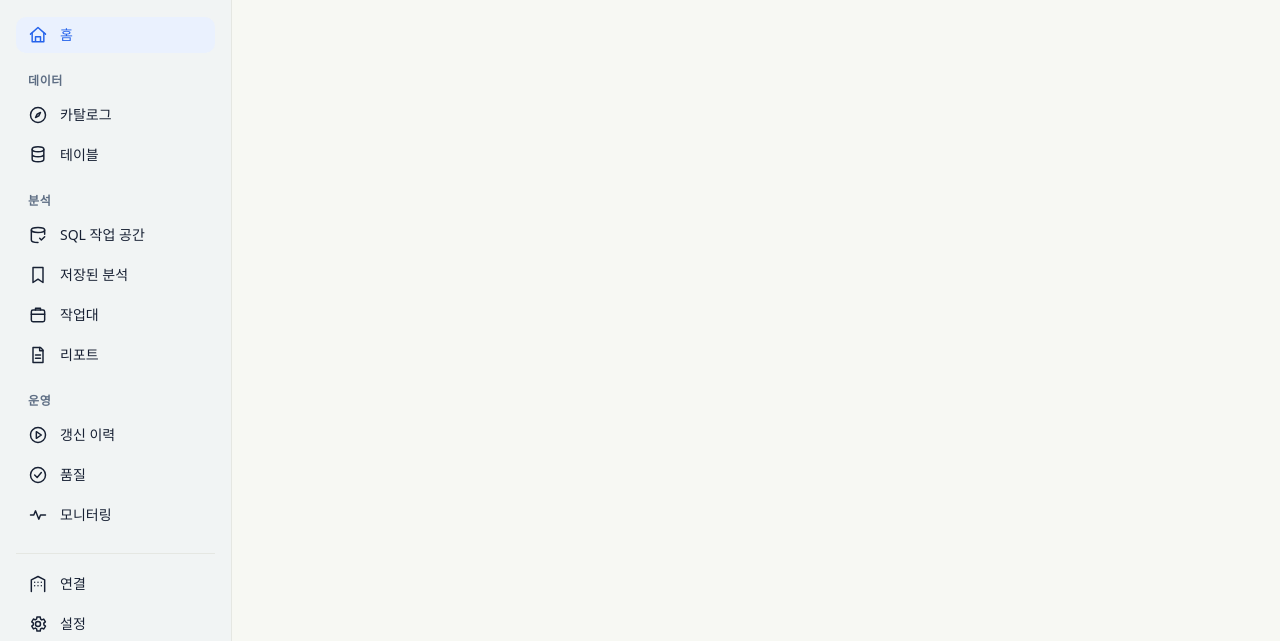
Scenario: topbar (#523) › opens search with Ctrl+K and navigates to a page without opening the assistant
Press k
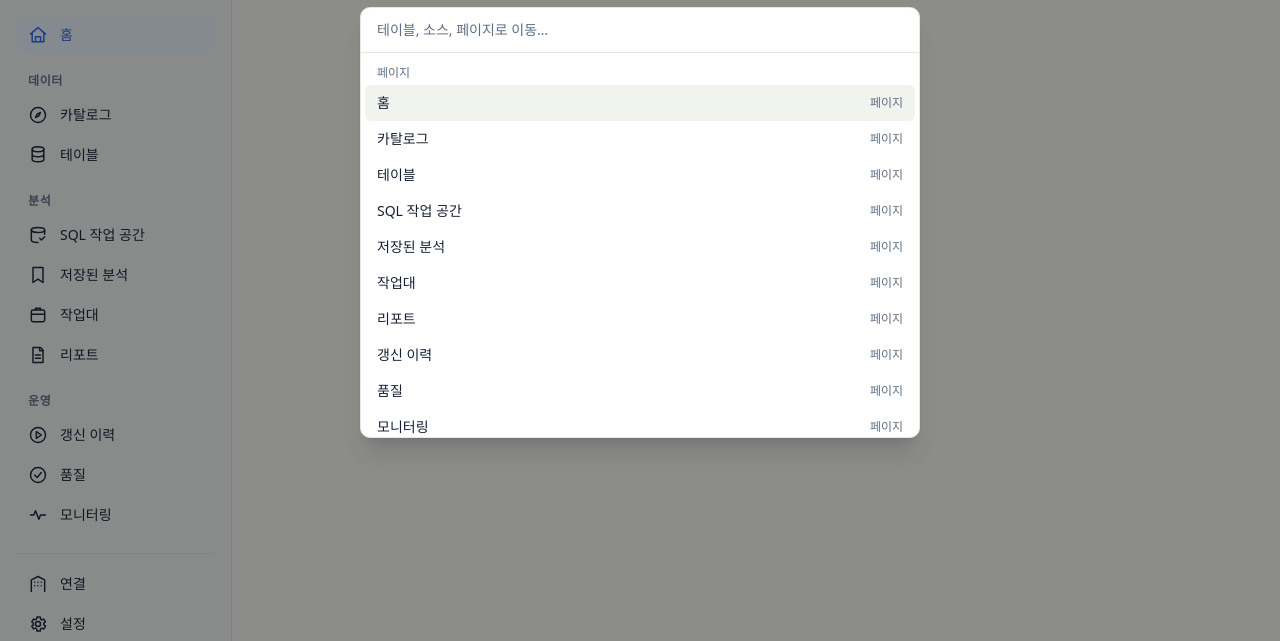
Type "SQL" into the dropdown named "테이블·소스·페이지 검색" at (640, 31), box left=361, top=8, right=919, bottom=53
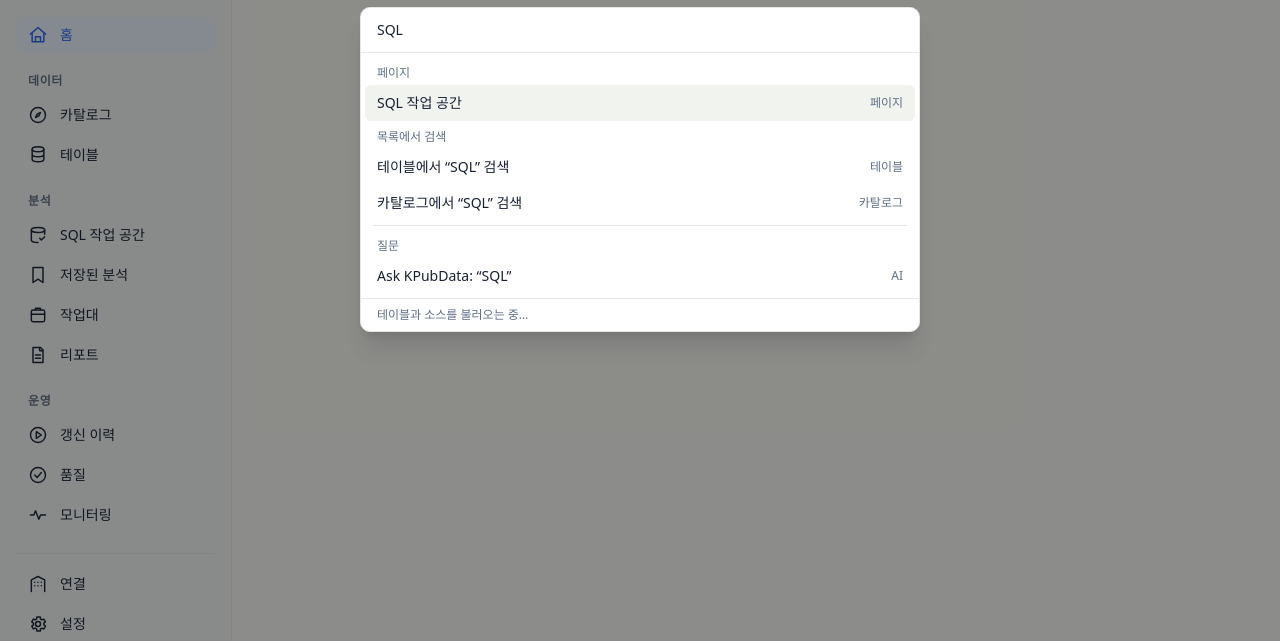
Result: the option "SQL 작업 공간 페이지" is shown at left=365, top=85, right=915, bottom=121
Press Enter in the dropdown named "테이블·소스·페이지 검색", box left=361, top=8, right=919, bottom=53
(page scrolled)
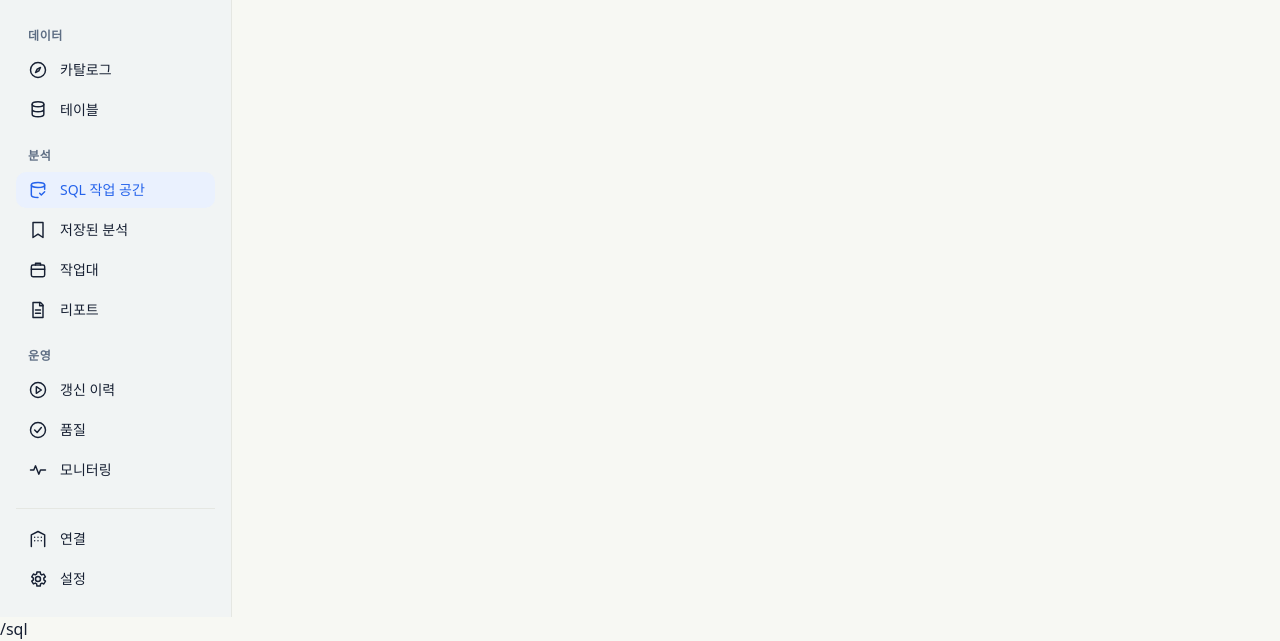
Result: the text with test id "location" reads "/sql" at left=0, top=618, right=28, bottom=640
